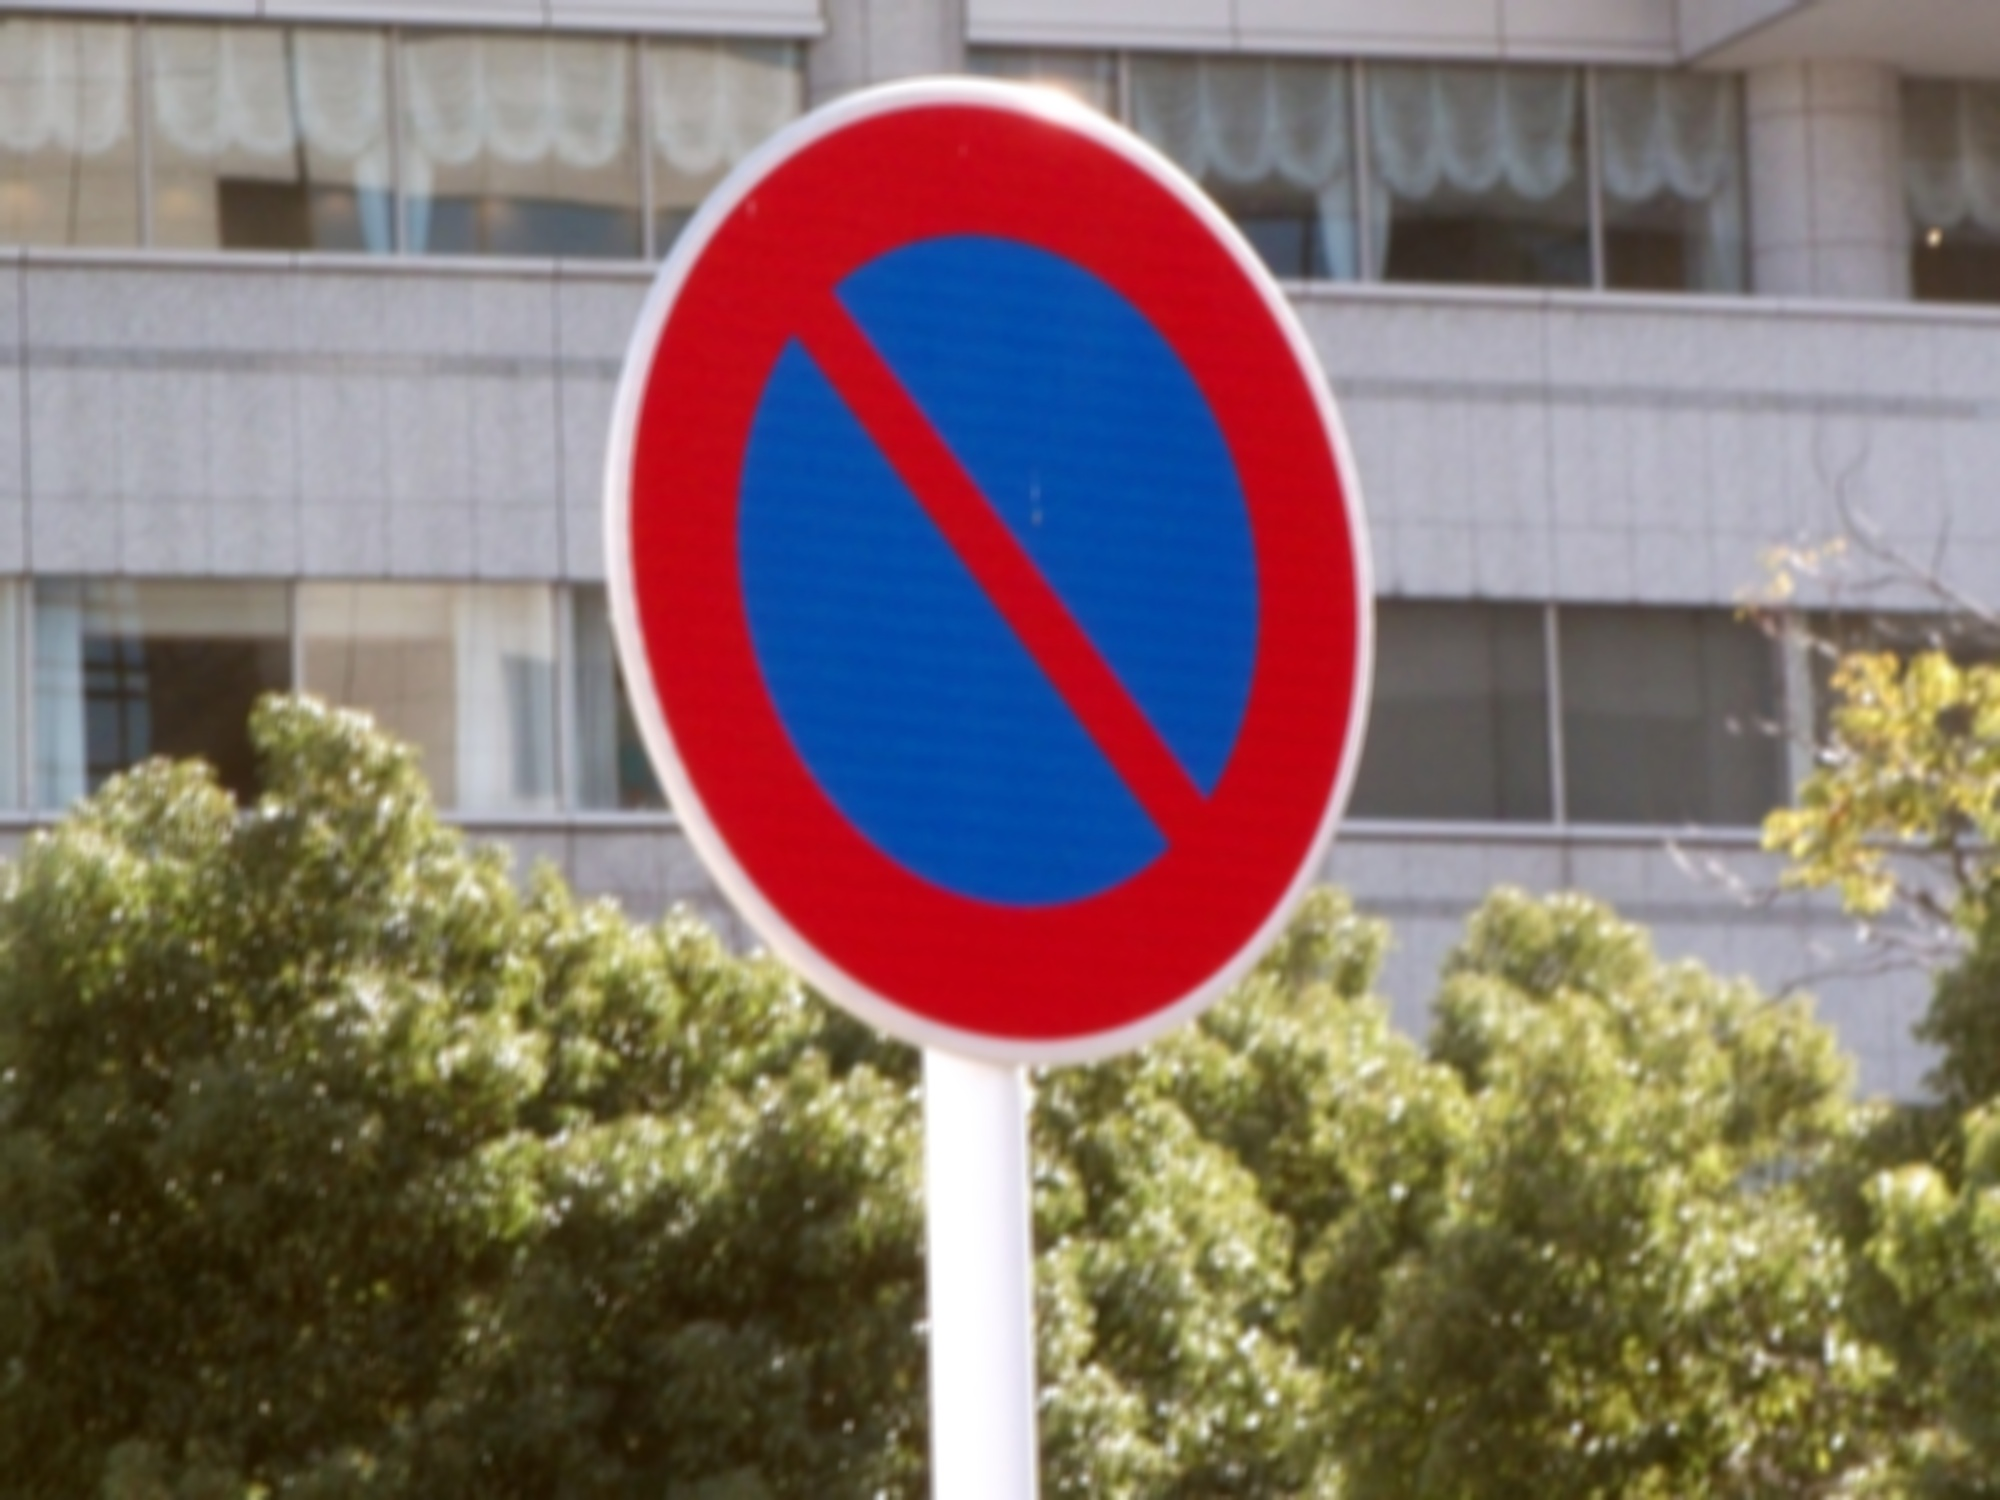Prohibition_sign: (509, 36, 1427, 1101)
